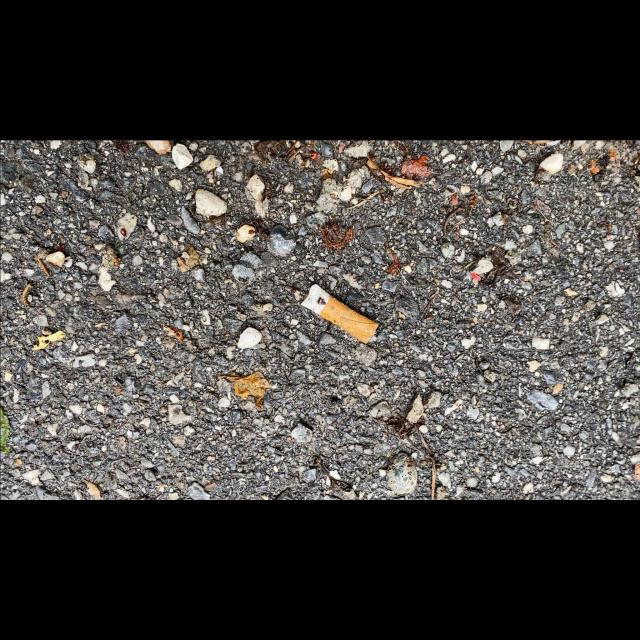cigarette: (300, 283, 380, 344)
